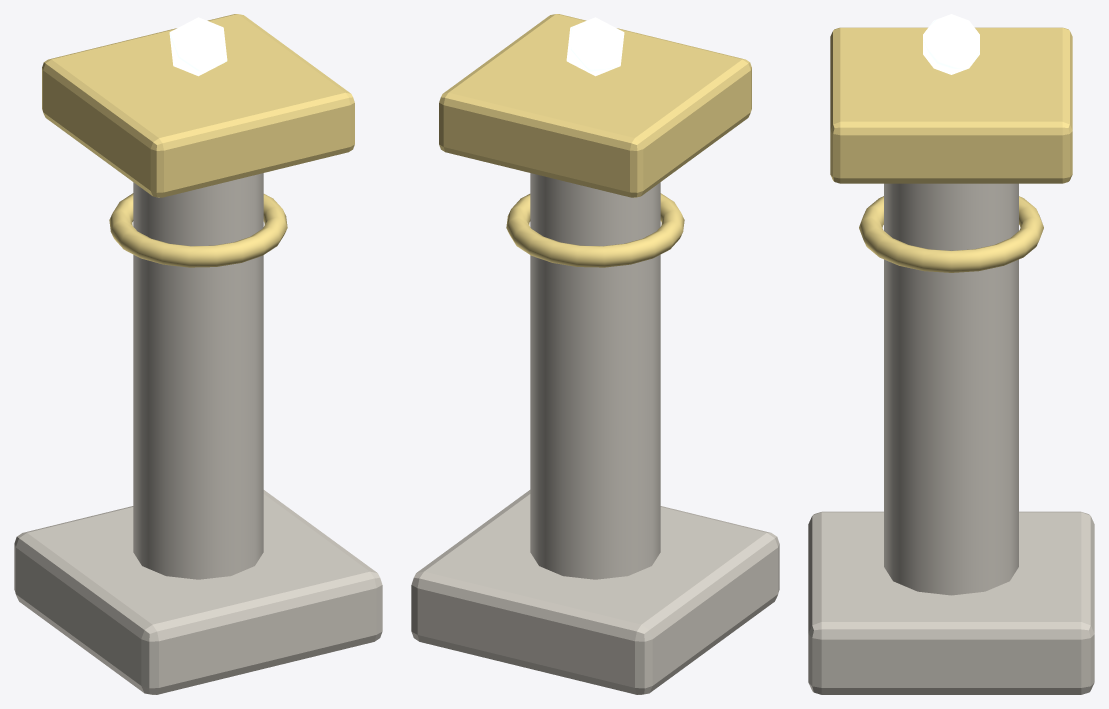
The model's file is ENV_Royal_Column.fbx.
3 views of the same model, side by side, from view 1: azimuth 30°, elevation 25°; view 2: azimuth 150°, elevation 25°; view 3: azimuth 270°, elevation 25° (orthographic). The views are drawn at different scales.
Visible parts, largest first — view 1: ENV_Royal_Column; view 2: ENV_Royal_Column; view 3: ENV_Royal_Column.
Part boxes in pixels (x1,y1,x2,y2): ENV_Royal_Column: (14,14,382,694); ENV_Royal_Column: (411,14,779,694); ENV_Royal_Column: (808,14,1094,694).
Size of the model in its own units: 0.85 by 2.05 by 0.85.
